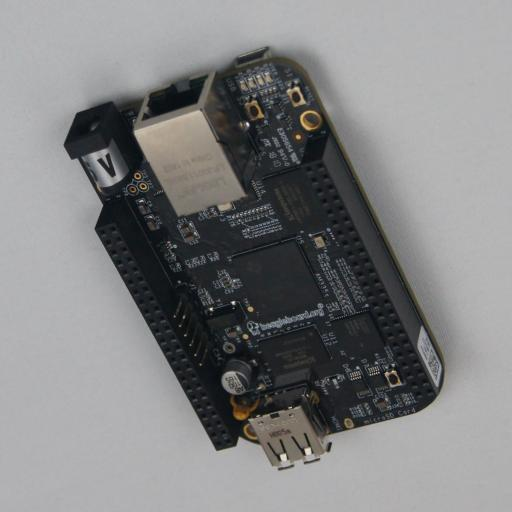Beaglebone Black: (64, 46, 444, 470)
